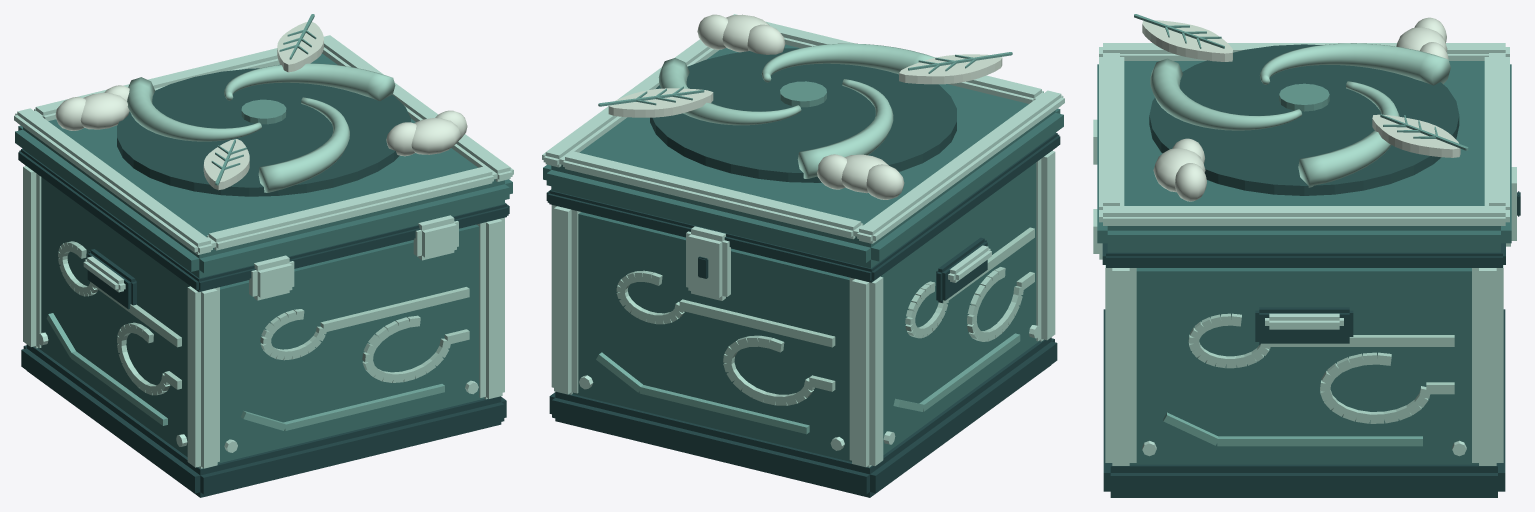
File: crate_vento.fbx
3 renders of one model, left to right at view 1: azimuth 30°, elevation 25°; view 2: azimuth 150°, elevation 25°; view 3: azimuth 270°, elevation 25°, orthographic. The views are drawn at different scales.
Parts seen in each view (by area): view 1: crate_vento_caixa, crate_vento_anim_rotor, crate_vento; view 2: crate_vento_caixa, crate_vento, crate_vento_anim_rotor; view 3: crate_vento_caixa, crate_vento_anim_rotor, crate_vento.
Boxes of the visible parts, x1,y1,x2,y2 form: crate_vento_caixa: [14, 35, 513, 497]; crate_vento_anim_rotor: [127, 63, 395, 192]; crate_vento: [55, 14, 467, 190]; crate_vento_caixa: [542, 14, 1064, 497]; crate_vento: [598, 14, 1012, 199]; crate_vento_anim_rotor: [658, 43, 934, 178]; crate_vento_caixa: [1093, 43, 1520, 497]; crate_vento_anim_rotor: [1150, 43, 1450, 187]; crate_vento: [1134, 14, 1468, 201].
Size of the model in its own units: 2.68 by 2.34 by 2.7.
Materials: 1 (1 with a texture image).
